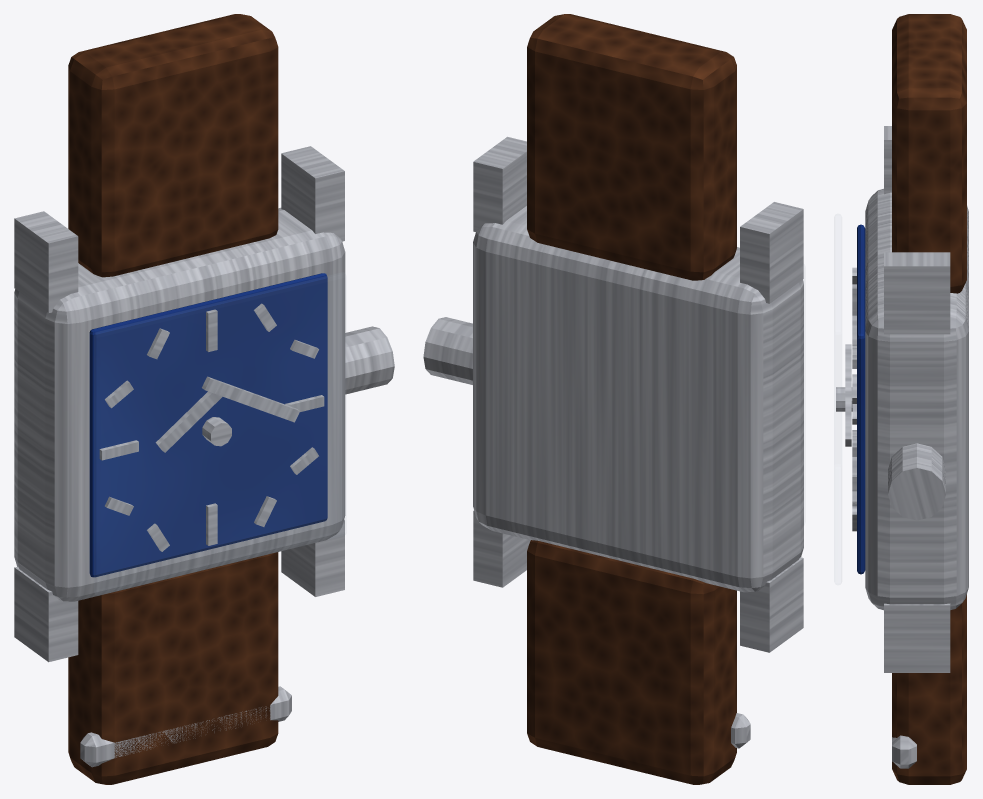
File: mdl_reloj_pulsera.fbx
3 views of the same model, side by side, from view 1: azimuth 30°, elevation 25°; view 2: azimuth 150°, elevation 25°; view 3: azimuth 270°, elevation 25° (orthographic). The views are drawn at different scales.
Visible parts, largest first — view 1: cuero_correa, metal_acero, esmalte_azul; view 2: metal_acero, cuero_correa; view 3: metal_acero, cuero_correa, esmalte_azul.
Part boxes in pixels (x1,y1,x2,y2): cuero_correa: (68, 14, 278, 784); metal_acero: (14, 146, 394, 767); esmalte_azul: (89, 273, 327, 577); metal_acero: (423, 136, 803, 748); cuero_correa: (527, 14, 736, 784); metal_acero: (836, 126, 968, 768); cuero_correa: (892, 14, 966, 784); esmalte_azul: (857, 224, 865, 574).
Size of the model in its own units: 94 by 185 by 32.5.
